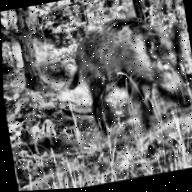boar: (63, 0, 192, 148)
